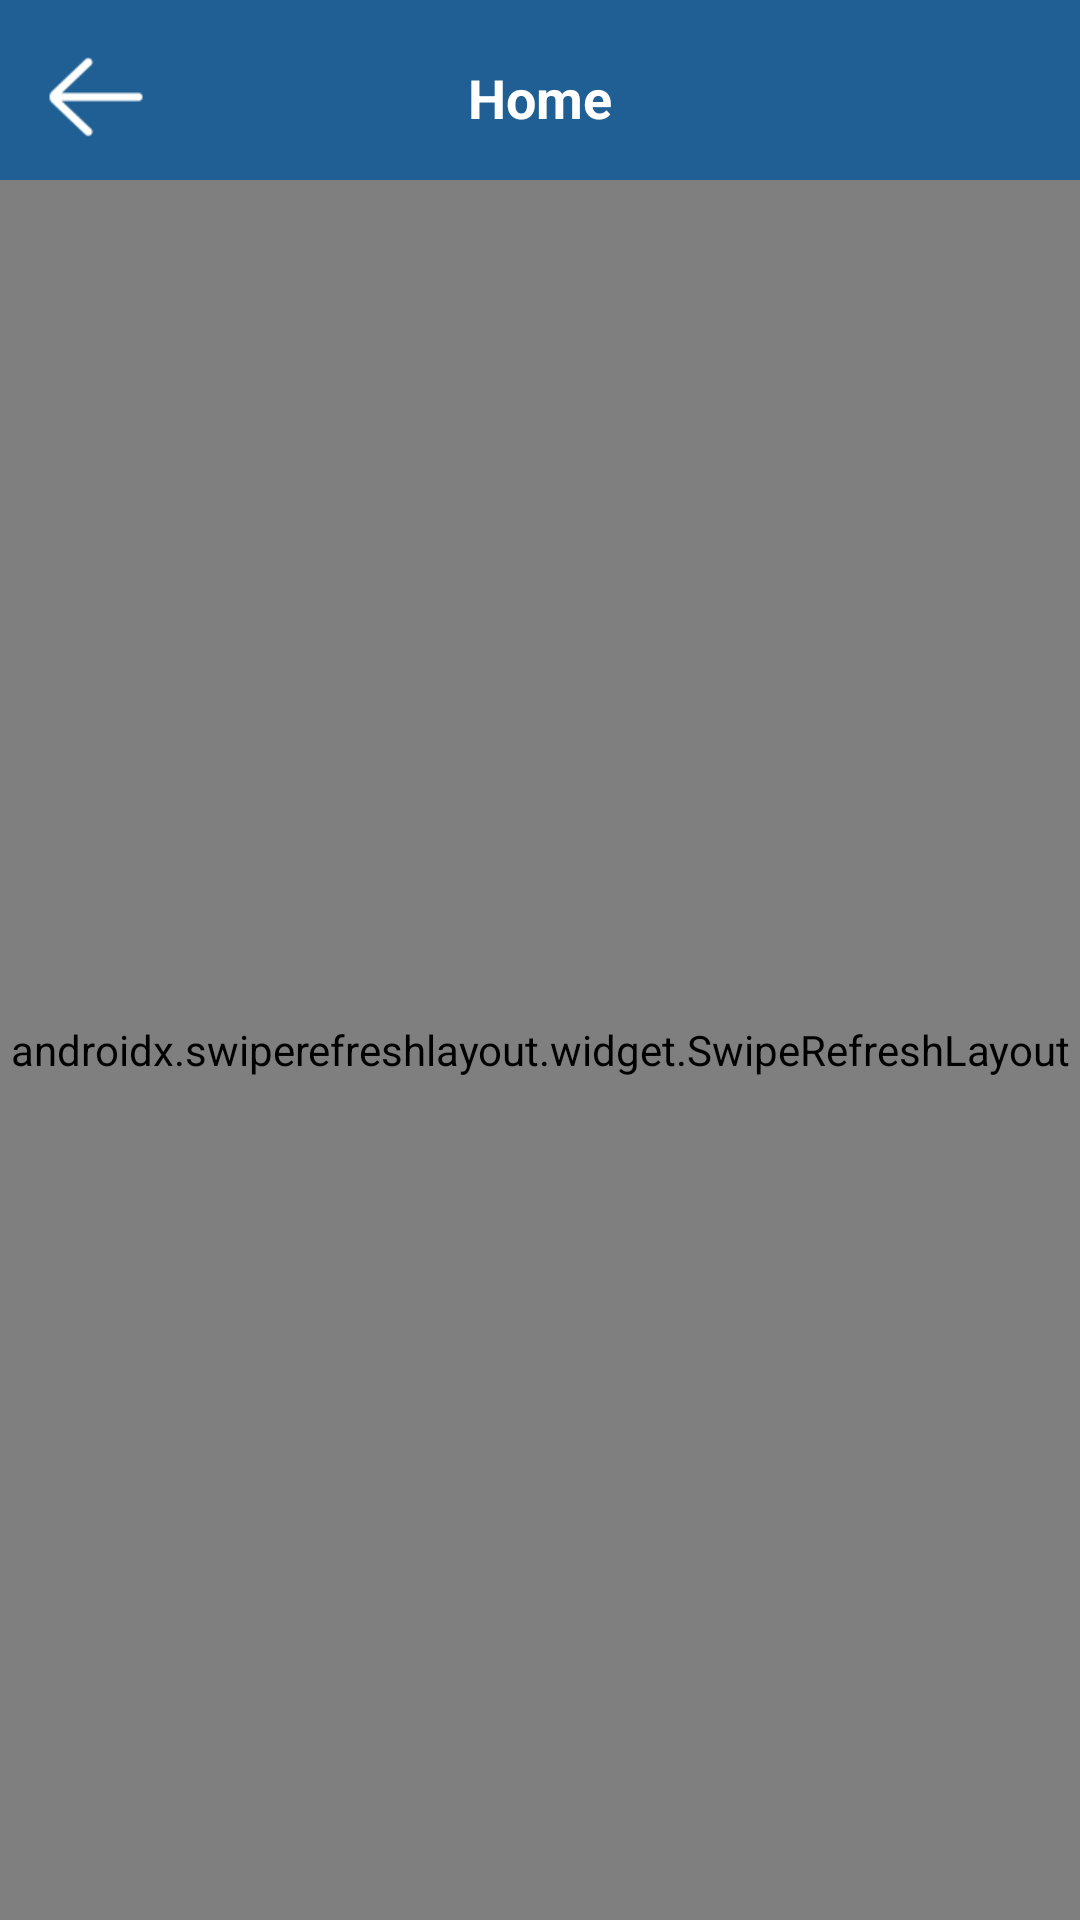

Where icons sit on this 1080*1920 app screen, as (x1, y1, x2, y2):
back: (49, 57, 143, 137)
